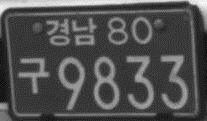0: (131, 15, 153, 44)
3: (125, 55, 155, 110), (160, 54, 188, 109)
8: (93, 56, 120, 110), (105, 16, 128, 44)
9: (57, 56, 86, 109)
경남_O: (44, 17, 97, 46)
구: (17, 57, 50, 94)
